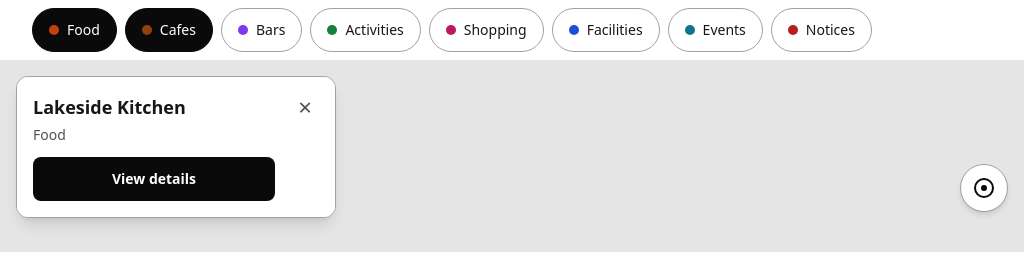
Test case: turning off the category of the selected place closes its preview
Click the button "Food".
click(74, 30)  # box [32, 8, 117, 52]
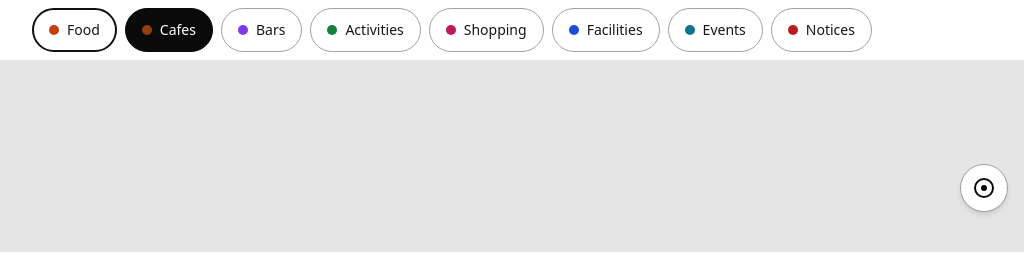
Expected: the heading "Lakeside Kitchen" is gone
